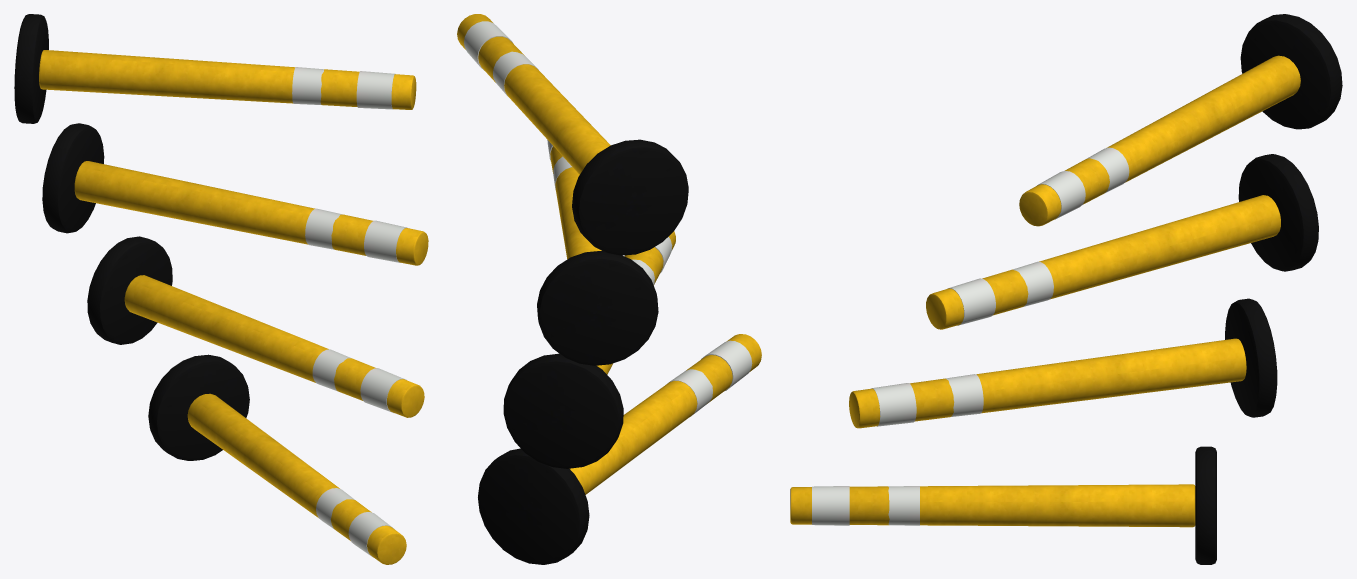
Rendered from PAV-SIN-004_anim.glb.
3 views of the same model, side by side, from view 1: azimuth 30°, elevation 25°; view 2: azimuth 150°, elevation 25°; view 3: azimuth 270°, elevation 25° (orthographic). The views are drawn at different scales.
Visible parts, largest first — view 1: PAV-SIN-004_anim2, PAV-SIN-004_anim1, PAV-SIN-004_anim3, PAV-SIN-004_anim0; view 2: PAV-SIN-004_anim3, PAV-SIN-004_anim0, PAV-SIN-004_anim2, PAV-SIN-004_anim1; view 3: PAV-SIN-004_anim2, PAV-SIN-004_anim1, PAV-SIN-004_anim3, PAV-SIN-004_anim0.
Part boxes in pixels (box(x1,y1,x2,y2)): PAV-SIN-004_anim2: box(42, 123, 428, 265); PAV-SIN-004_anim1: box(87, 236, 424, 417); PAV-SIN-004_anim3: box(14, 14, 416, 123); PAV-SIN-004_anim0: box(148, 354, 406, 564); PAV-SIN-004_anim3: box(457, 14, 688, 255); PAV-SIN-004_anim0: box(478, 334, 761, 564); PAV-SIN-004_anim2: box(537, 140, 658, 365); PAV-SIN-004_anim1: box(503, 231, 675, 468); PAV-SIN-004_anim2: box(926, 154, 1318, 329); PAV-SIN-004_anim1: box(849, 298, 1277, 428); PAV-SIN-004_anim3: box(1019, 14, 1342, 226); PAV-SIN-004_anim0: box(790, 446, 1216, 564).
Size of the model in its own units: 0.7031 by 0.9699 by 1.02.
Materials: 3 (3 with a texture image).
